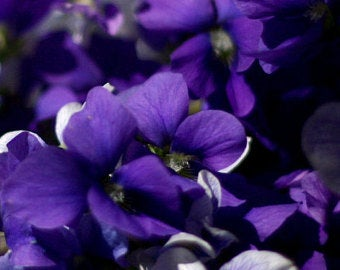violet: (16, 22, 321, 270)
